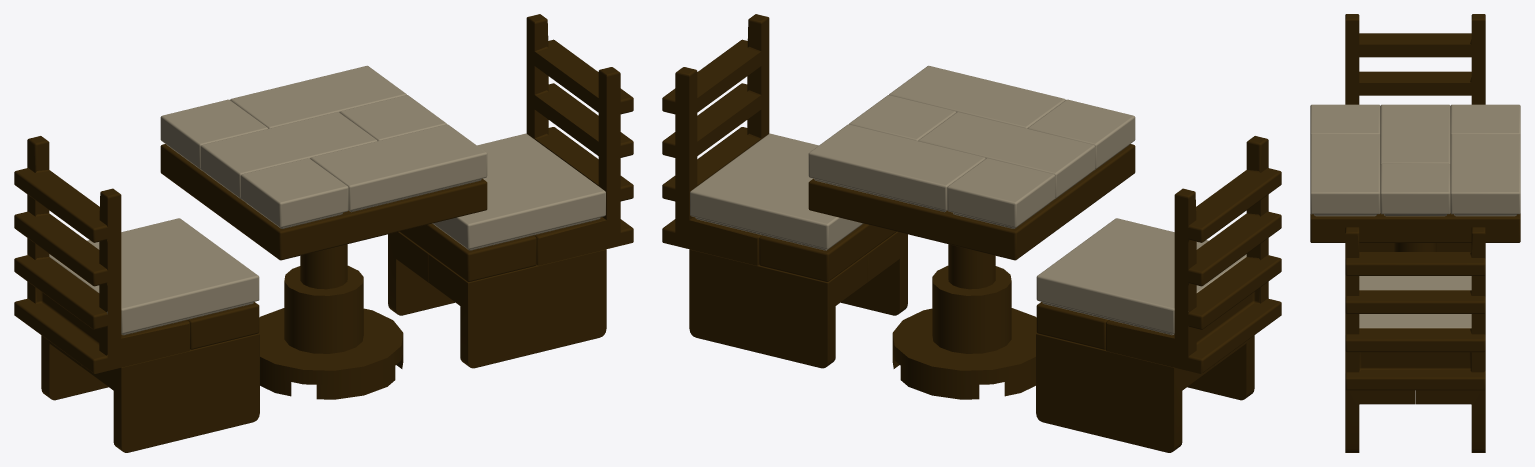
File: table.fbx
The picture shows the model from 3 angles, left to right: view 1: azimuth 30°, elevation 25°; view 2: azimuth 150°, elevation 25°; view 3: azimuth 270°, elevation 25°; orthographic projection. The views are drawn at different scales.
Parts seen in each view (by area): view 1: 00001_4175.dat, 00011_3940.dat, 00006_4175.dat, 00009_4865b.dat, 00003_4865b.dat, 00005_11203.dat, 00010_11203.dat, 00012_11212.dat, 00016_3069b.dat, 00017_3069b.dat, 00018_3069b.dat, 00015_3070b.dat (+6 smaller); view 2: 00001_4175.dat, 00011_3940.dat, 00006_4175.dat, 00008_4865b.dat, 00004_4865b.dat, 00005_11203.dat, 00010_11203.dat, 00012_11212.dat, 00018_3069b.dat, 00017_3069b.dat, 00016_3069b.dat, 00013_3070b.dat (+6 smaller); view 3: 00006_4175.dat, 00001_4175.dat, 00016_3069b.dat, 00018_3069b.dat, 00012_11212.dat, 00017_3069b.dat, 00014_3070b.dat, 00010_11203.dat, 00013_3070b.dat, 00015_3070b.dat, 00008_4865b.dat, 00009_4865b.dat (+3 smaller).
Boxes of the visible parts, x1,y1,x2,y2 form: 00001_4175.dat: (14, 136, 189, 373); 00011_3940.dat: (259, 244, 403, 399); 00006_4175.dat: (526, 14, 633, 265); 00009_4865b.dat: (428, 249, 606, 368); 00003_4865b.dat: (81, 333, 259, 452); 00005_11203.dat: (49, 218, 259, 335); 00010_11203.dat: (432, 133, 605, 250); 00012_11212.dat: (160, 144, 487, 260); 00016_3069b.dat: (310, 124, 487, 212); 00017_3069b.dat: (200, 112, 377, 198); 00018_3069b.dat: (230, 65, 406, 128); 00015_3070b.dat: (240, 158, 348, 228); 00001_4175.dat: (1106, 136, 1281, 373); 00011_3940.dat: (892, 244, 1036, 399); 00006_4175.dat: (662, 14, 769, 265); 00008_4865b.dat: (689, 249, 867, 368); 00004_4865b.dat: (1036, 333, 1214, 452); 00005_11203.dat: (1036, 218, 1246, 335); 00010_11203.dat: (690, 133, 863, 250); 00012_11212.dat: (808, 144, 1135, 260); 00018_3069b.dat: (808, 124, 985, 212); 00017_3069b.dat: (918, 112, 1095, 198); 00016_3069b.dat: (889, 65, 1065, 128); 00013_3070b.dat: (947, 158, 1055, 228); 00006_4175.dat: (1345, 227, 1485, 390); 00001_4175.dat: (1345, 14, 1485, 104); 00016_3069b.dat: (1310, 134, 1380, 216); 00018_3069b.dat: (1450, 134, 1520, 216); 00012_11212.dat: (1310, 213, 1520, 242); 00017_3069b.dat: (1380, 104, 1450, 164); 00014_3070b.dat: (1380, 163, 1450, 216); 00010_11203.dat: (1359, 276, 1471, 328); 00013_3070b.dat: (1450, 104, 1520, 134); 00015_3070b.dat: (1310, 104, 1380, 134); 00008_4865b.dat: (1415, 390, 1485, 452); 00009_4865b.dat: (1345, 390, 1415, 452).
Bounding box in the file's own units: 156 × 72 × 60.
